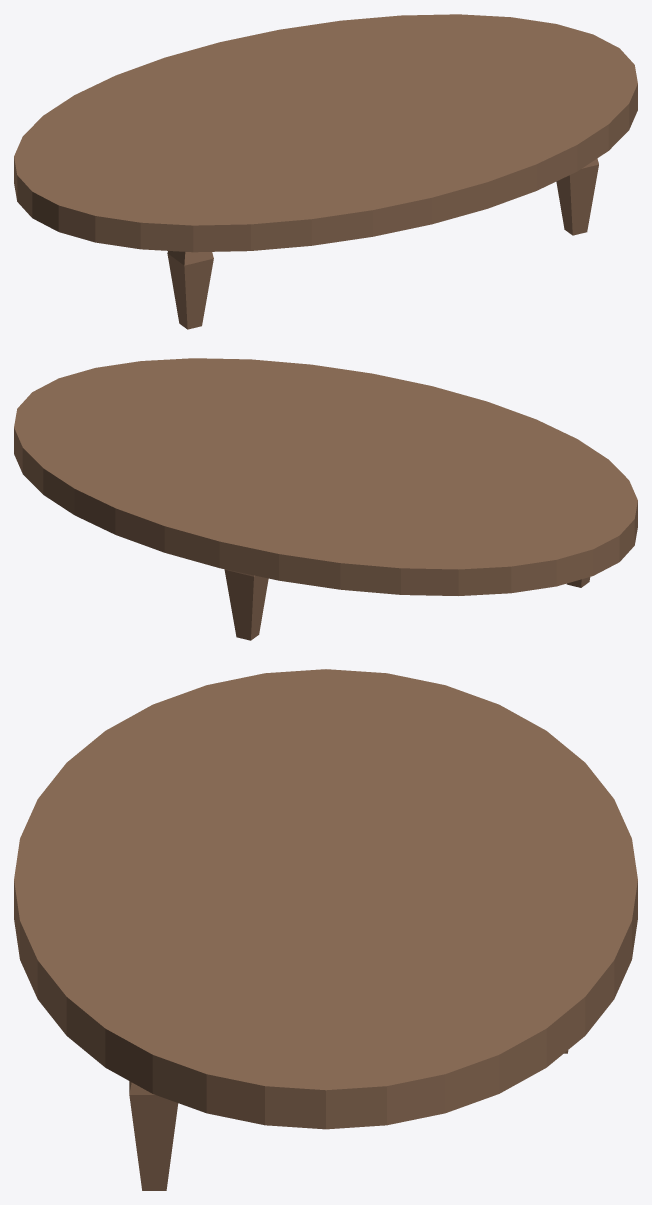
Rendered from coffee table.fbx.
The picture shows the model from 3 angles, top to bottom: view 1: azimuth 30°, elevation 25°; view 2: azimuth 150°, elevation 25°; view 3: azimuth 270°, elevation 25°; orthographic projection. The views are drawn at different scales.
Visible parts, largest first — view 1: Cylinder, Cube.001, Cube.002; view 2: Cylinder, Cube; view 3: Cylinder, Cube.002.
Part boxes in pixels (left/top/right/bottom): Cylinder: left=14, top=14, right=637, bottom=252; Cube.001: left=167, top=251, right=213, bottom=329; Cube.002: left=556, top=158, right=598, bottom=235; Cylinder: left=14, top=358, right=637, bottom=595; Cube: left=224, top=569, right=268, bottom=640; Cylinder: left=14, top=669, right=637, bottom=1129; Cube.002: left=129, top=1081, right=178, bottom=1190.
Bounding box in the file's own units: 604 × 113 × 378.
